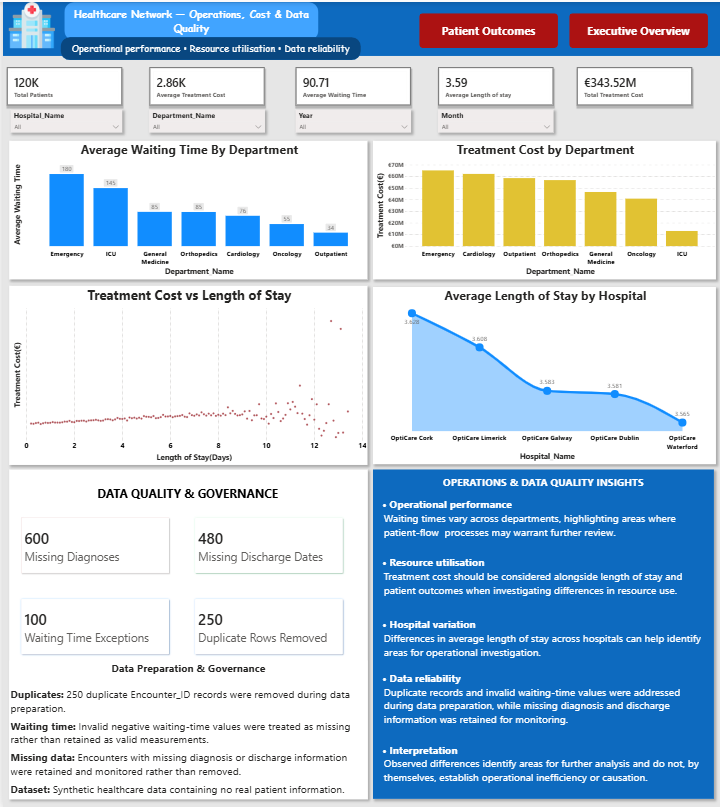

Layout of this report page (visuals, bound fields, positions):
{"tool":"powerbi","page":{"name":"Operations, Cost & Data Quality","canvas":[3000,3358],"ordinal":2},"visuals":[{"type":"shape","box":[-8,0,3008,224],"z":0},{"type":"shape","box":[256,0,1056,160],"z":1000},{"type":"shape","box":[240,144,1248,96],"z":2000},{"type":"slicer","fields":{"Values":["Dim_Hospitals.Hospital_Name"]},"box":[32,448,464,96],"z":3000},{"type":"slicer","fields":{"Values":["Dim_Departments.Department_Name"]},"box":[608,448,480,96],"z":4000},{"type":"clusteredColumnChart","title":"Average Waiting Time By Department","fields":{"Category":["Dim_Departments.Department_Name"],"Y":["Fact_Encounters.Average Waiting Time"]},"box":[24,576,1488,576],"z":5000},{"type":"scatterChart","title":"Treatment Cost vs Length of Stay","fields":{"X":["Fact_Encounters.Length_of_Stay_Days"],"Y":["Fact_Encounters.Average Treatment Cost"]},"box":[24,1176,1488,744],"z":6000},{"type":"areaChart","title":"Average Length of Stay by Hospital","fields":{"Category":["Dim_Hospitals.Hospital_Name"],"Y":["Fact_Encounters.Average Length of stay"]},"box":[1536,1184,1424,736],"z":7000},{"type":"textbox","box":[1536,1944,1416,1368],"z":8000},{"type":"image","box":[0,0,240,192],"z":9000},{"type":"cardVisual","fields":{"Data":["Fact_Encounters.Total Patients"]},"box":[16,272,480,160],"z":10000},{"type":"cardVisual","fields":{"Data":["Fact_Encounters.Average Treatment Cost"]},"box":[608,272,480,160],"z":11000},{"type":"cardVisual","fields":{"Data":["Fact_Encounters.Average Waiting Time"]},"box":[1216,272,480,160],"z":12000},{"type":"cardVisual","fields":{"Data":["Fact_Encounters.Average Length of stay"]},"box":[1808,272,480,160],"z":13000},{"type":"cardVisual","fields":{"Data":["Fact_Encounters.Total Treatment Cost"]},"box":[2384,272,480,160],"z":14000},{"type":"shape","box":[1728,48,576,144],"z":15000},{"type":"shape","box":[2352,48,576,144],"z":16000},{"type":"clusteredColumnChart","title":"Treatment Cost by Department","fields":{"Category":["Dim_Departments.Department_Name"],"Y":["Fact_Encounters.Total Treatment Cost"]},"box":[1536,576,1424,576],"z":17000},{"type":"slicer","fields":{"Values":["Dim_Calendar.Year"]},"box":[1216,448,480,96],"z":18000},{"type":"slicer","fields":{"Values":["Dim_Calendar.Month"]},"box":[1808,448,480,96],"z":19000},{"type":"shape","box":[24,1944,1488,1368],"z":20000},{"type":"cardVisual","fields":{"Data":["Fact_Encounters.Missing Diagnoses"]},"box":[48,2112,672,288],"z":21000},{"type":"cardVisual","fields":{"Data":["Fact_Encounters.Missing Discharge Dates"]},"box":[768,2112,672,288],"z":22000},{"type":"cardVisual","fields":{"Data":["Fact_Encounters.Waiting Time Exceptions"]},"box":[48,2448,672,288],"z":23000},{"type":"shape","box":[48,1968,1440,48],"z":24000},{"type":"cardVisual","fields":{"Data":["Fact_Encounters.Duplicate Rows Removed"]},"box":[768,2448,672,288],"z":25000},{"type":"textbox","title":"Data Preparation & Governance","box":[24,2736,1488,576],"z":25001}]}

Visuals, with their boxes in screenshot pixels (x1, y1, x2, y2), scaled from the page's 3000x3358 canvas onto the 720x807 screenshot:
shape: (x1=0, y1=0, x2=719, y2=54)
shape: (x1=61, y1=0, x2=315, y2=38)
shape: (x1=58, y1=35, x2=357, y2=58)
slicer - Dim_Hospitals.Hospital_Name: (x1=8, y1=108, x2=119, y2=131)
slicer - Dim_Departments.Department_Name: (x1=146, y1=108, x2=261, y2=131)
"Average Waiting Time By Department" clusteredColumnChart: (x1=6, y1=138, x2=363, y2=277)
"Treatment Cost vs Length of Stay" scatterChart: (x1=6, y1=283, x2=363, y2=461)
"Average Length of Stay by Hospital" areaChart: (x1=369, y1=285, x2=710, y2=461)
textbox: (x1=369, y1=467, x2=708, y2=796)
image: (x1=0, y1=0, x2=58, y2=46)
cardVisual - Fact_Encounters.Total Patients: (x1=4, y1=65, x2=119, y2=104)
cardVisual - Fact_Encounters.Average Treatment Cost: (x1=146, y1=65, x2=261, y2=104)
cardVisual - Fact_Encounters.Average Waiting Time: (x1=292, y1=65, x2=407, y2=104)
cardVisual - Fact_Encounters.Average Length of stay: (x1=434, y1=65, x2=549, y2=104)
cardVisual - Fact_Encounters.Total Treatment Cost: (x1=572, y1=65, x2=687, y2=104)
shape: (x1=415, y1=12, x2=553, y2=46)
shape: (x1=564, y1=12, x2=703, y2=46)
"Treatment Cost by Department" clusteredColumnChart: (x1=369, y1=138, x2=710, y2=277)
slicer - Dim_Calendar.Year: (x1=292, y1=108, x2=407, y2=131)
slicer - Dim_Calendar.Month: (x1=434, y1=108, x2=549, y2=131)
shape: (x1=6, y1=467, x2=363, y2=796)
cardVisual - Fact_Encounters.Missing Diagnoses: (x1=12, y1=508, x2=173, y2=577)
cardVisual - Fact_Encounters.Missing Discharge Dates: (x1=184, y1=508, x2=346, y2=577)
cardVisual - Fact_Encounters.Waiting Time Exceptions: (x1=12, y1=588, x2=173, y2=658)
shape: (x1=12, y1=473, x2=357, y2=484)
cardVisual - Fact_Encounters.Duplicate Rows Removed: (x1=184, y1=588, x2=346, y2=658)
"Data Preparation & Governance" textbox: (x1=6, y1=658, x2=363, y2=796)
